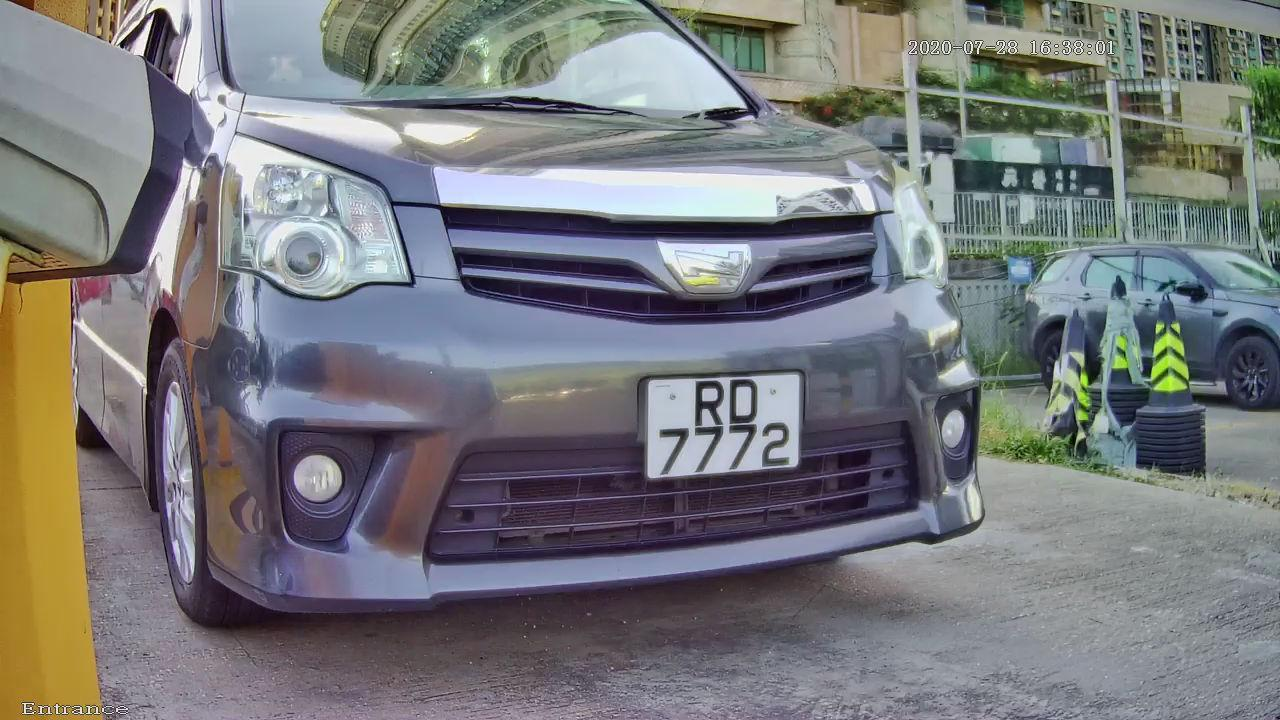privatecar: (12, 10, 1149, 666)
